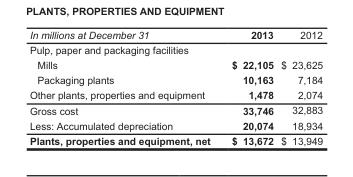table: (28, 28, 322, 145)
table column: (28, 28, 220, 145), (220, 28, 276, 145), (276, 28, 322, 145)
table column header: (28, 28, 322, 41)
table projected row header: (28, 41, 322, 56)
table row: (28, 56, 322, 72), (28, 41, 322, 56), (28, 72, 322, 87), (28, 87, 322, 102), (28, 102, 322, 117), (28, 117, 322, 132), (28, 28, 322, 41), (28, 132, 322, 145)
